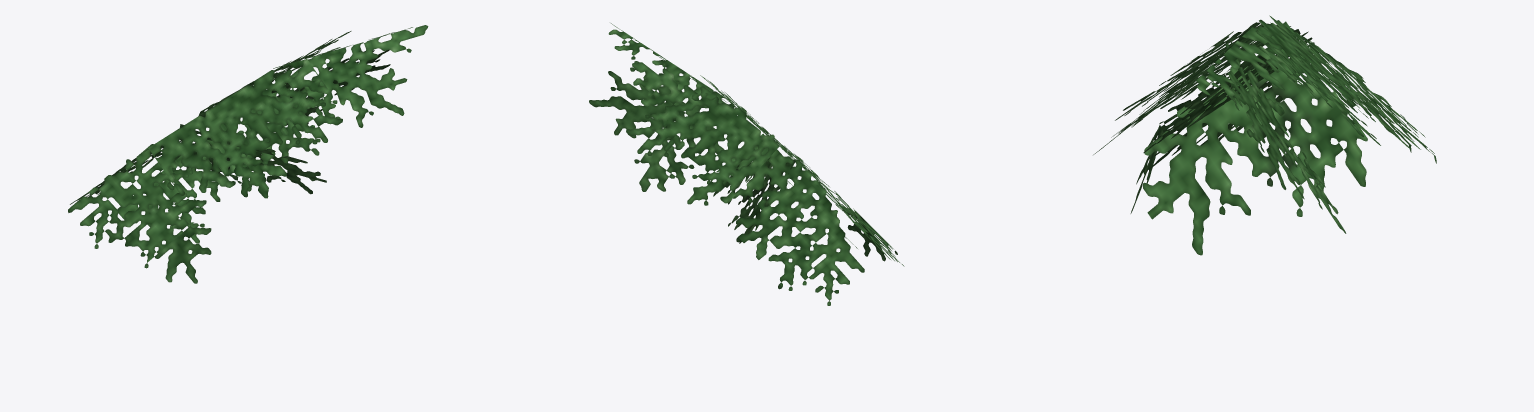
File: spruce_leaves_2.obj
The picture shows the model from 3 angles, left to right: view 1: azimuth 30°, elevation 25°; view 2: azimuth 150°, elevation 25°; view 3: azimuth 270°, elevation 25°; orthographic projection. The views are drawn at different scales.
Parts seen in each view (by area): view 1: plane, cube; view 2: cube, plane; view 3: cube, plane.
Part boxes in pixels (left/top/right/bottom): plane: left=68, top=25, right=428, bottom=283; cube: left=148, top=31, right=390, bottom=195; cube: left=589, top=61, right=840, bottom=243; plane: left=608, top=23, right=904, bottom=305; cube: left=1115, top=15, right=1410, bottom=255; plane: left=1093, top=22, right=1436, bottom=213.
Bounding box in the file's own units: 3.84 × 2.47 × 2.31.
